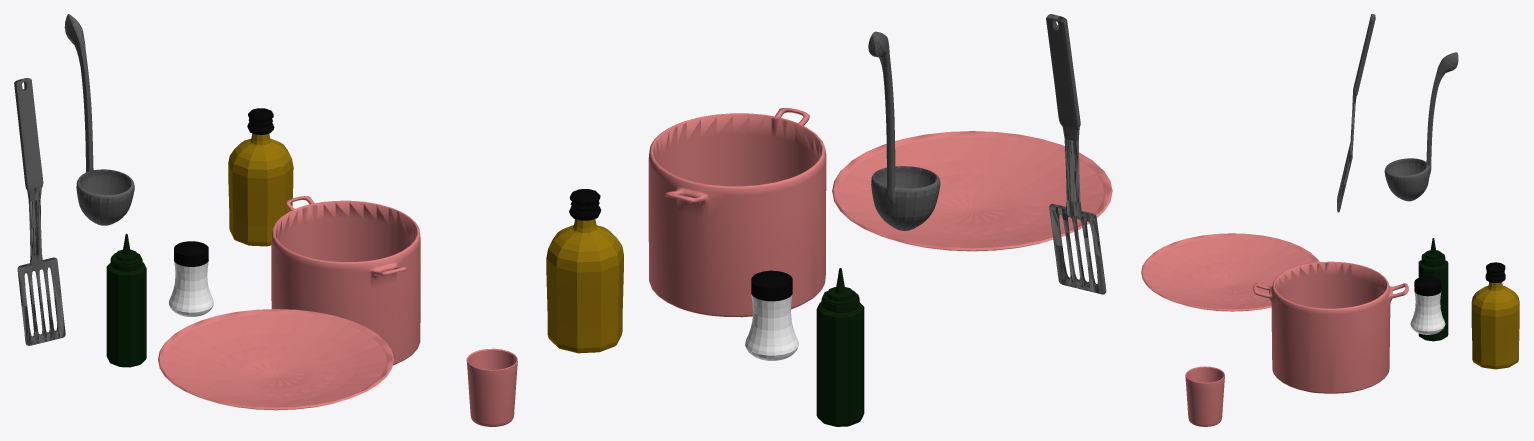
File: Kitchen_Objects_Remodeled.FBX
3 views of the same model, side by side, from view 1: azimuth 30°, elevation 25°; view 2: azimuth 150°, elevation 25°; view 3: azimuth 270°, elevation 25° (orthographic). The views are drawn at different scales.
Parts seen in each view (by area): view 1: Plato003, Circle, Botella aceite, Espatula, Ketchup, Cazo, Vaso, Salero002; view 2: Circle, Plato003, Botella aceite, Ketchup, Espatula, Cazo, Salero002; view 3: Circle, Plato003, Botella aceite, Cazo, Vaso, Salero002, Ketchup, Espatula.
Part boxes in pixels (x1=…): Plato003: x1=158, y1=309, x2=393, y2=410; Circle: x1=271, y1=196, x2=420, y2=365; Botella aceite: x1=228, y1=108, x2=293, y2=246; Espatula: x1=14, y1=78, x2=65, y2=345; Ketchup: x1=106, y1=233, x2=146, y2=367; Cazo: x1=64, y1=14, x2=134, y2=225; Vaso: x1=466, y1=348, x2=517, y2=426; Salero002: x1=168, y1=241, x2=213, y2=316; Circle: x1=648, y1=108, x2=826, y2=317; Plato003: x1=832, y1=131, x2=1112, y2=251; Botella aceite: x1=546, y1=189, x2=623, y2=353; Ketchup: x1=816, y1=268, x2=864, y2=426; Espatula: x1=1046, y1=14, x2=1106, y2=294; Cazo: x1=868, y1=31, x2=940, y2=230; Salero002: x1=745, y1=270, x2=798, y2=360; Circle: x1=1253, y1=261, x2=1408, y2=393; Plato003: x1=1141, y1=233, x2=1319, y2=311; Botella aceite: x1=1471, y1=262, x2=1519, y2=369; Cazo: x1=1384, y1=52, x2=1458, y2=201; Vaso: x1=1185, y1=366, x2=1224, y2=426; Salero002: x1=1410, y1=276, x2=1445, y2=334; Ketchup: x1=1418, y1=238, x2=1448, y2=341; Espatula: x1=1337, y1=14, x2=1375, y2=212.
Bounding box in the file's own units: 1529 × 1268 × 1613.
